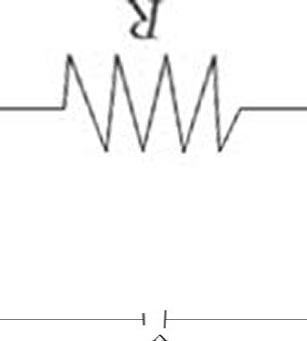resistor: (37, 45, 254, 162)
